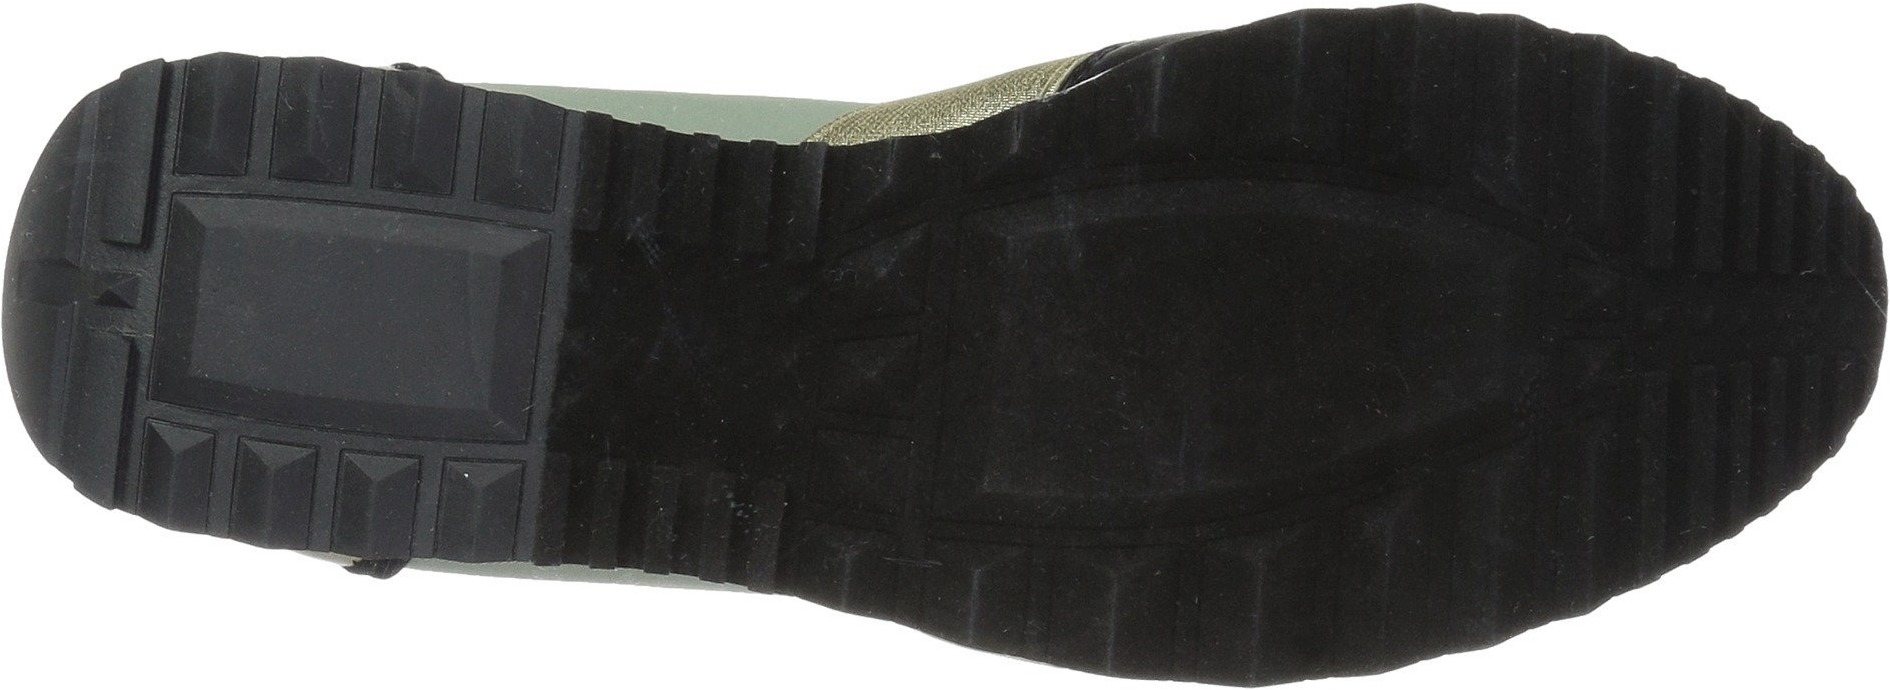other: (183, 207, 491, 423)
quad: (574, 413, 750, 587), (606, 140, 763, 288)
